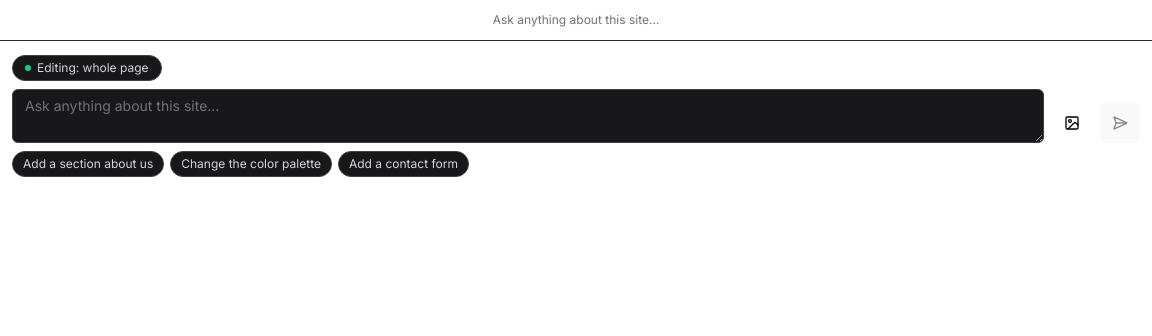
Scenario: RightSidebarAiChat › send -> ok response renders Accept/Discard; Accept commits the operations
Type "change the hero" into the text box with test id "composer-textarea".
click(528, 116); type("change the hero")  # box [12, 89, 1044, 143]
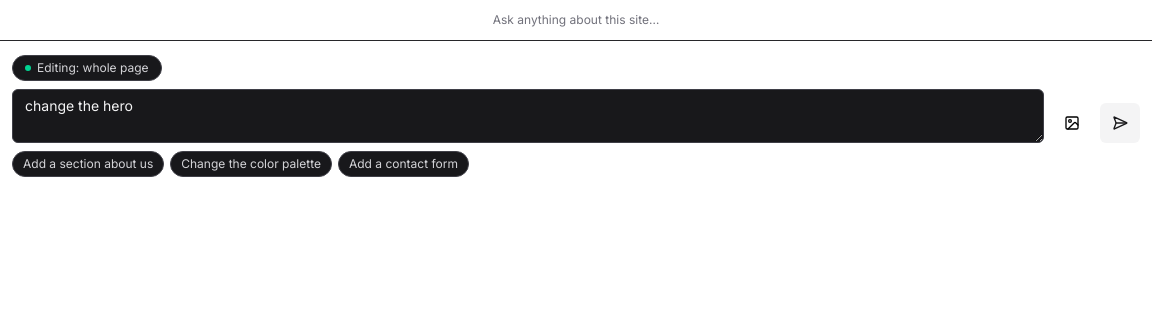
Click the button named "Send".
click(1120, 123)  # box [1100, 103, 1140, 143]
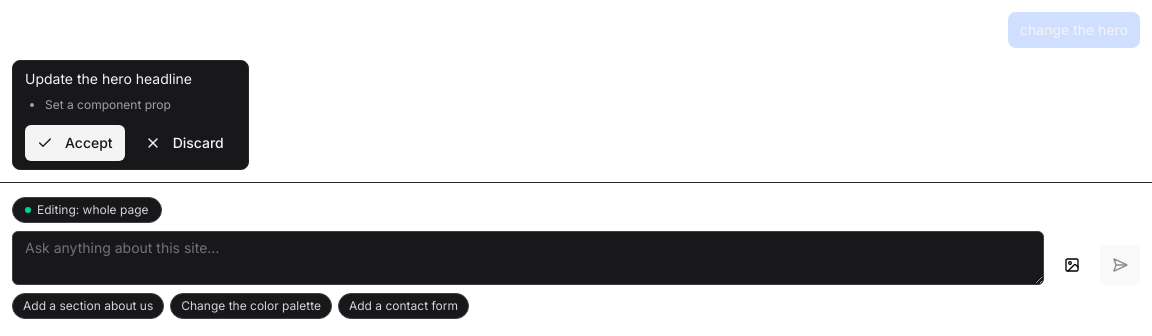
Expected: the element with test id "assistant-ok" is shown, [12, 60, 249, 170]
Expected: the button with test id "accept-button" is shown
Expected: the button with test id "discard-button" is shown, [133, 125, 236, 161]
Click the button with test id "accept-button".
click(75, 143)  # box [25, 125, 125, 161]
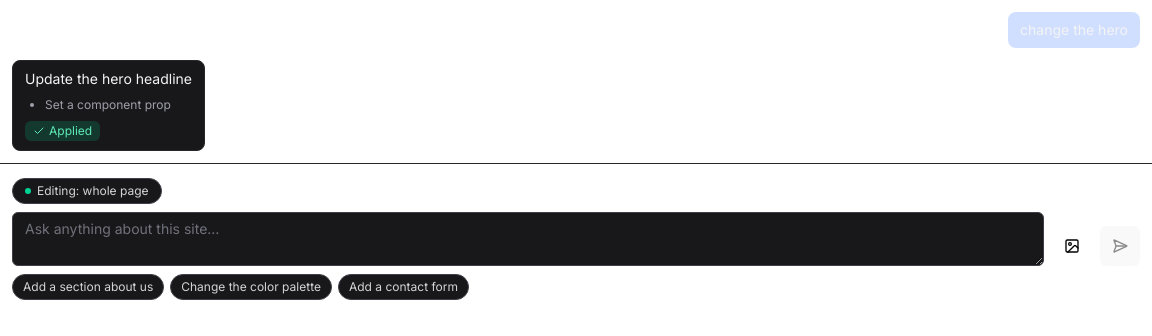
Expected: the element with test id "applied-tag" is shown, [25, 121, 100, 141]
